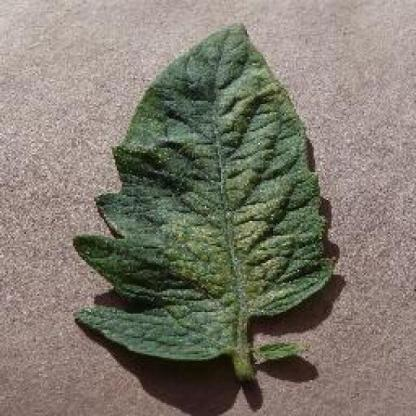Tomato_Spider_Mites: (77, 21, 334, 360)
